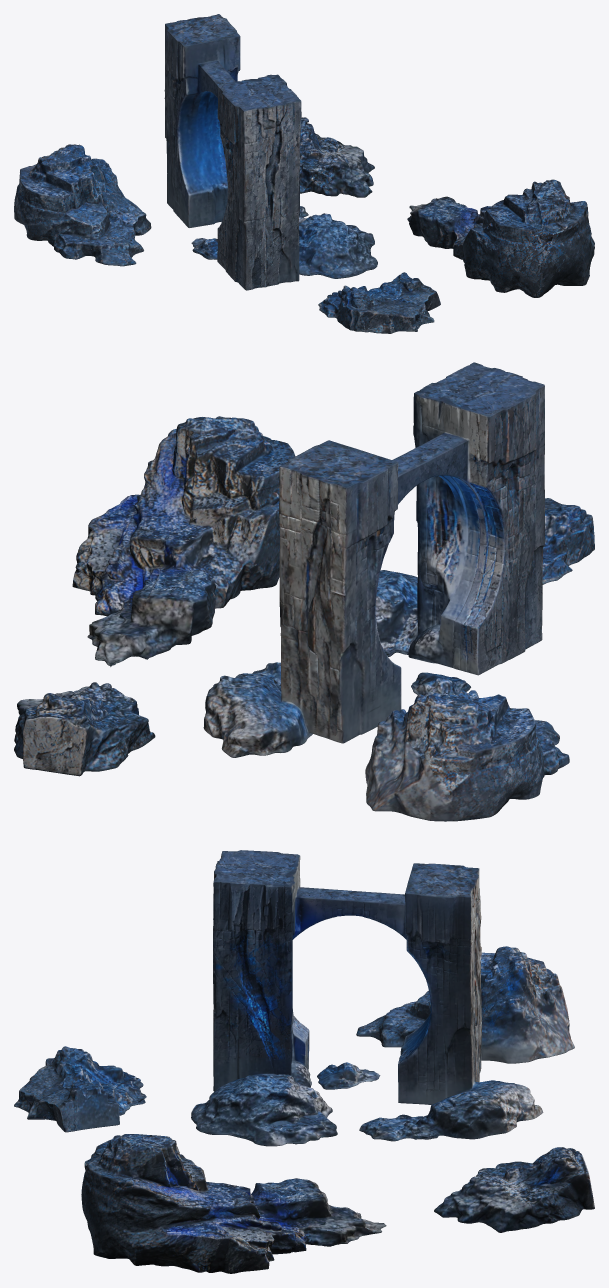
File: mcanzee-env-high.glb
3 renders of one model, top to bottom at view 1: azimuth 30°, elevation 25°; view 2: azimuth 150°, elevation 25°; view 3: azimuth 270°, elevation 25°, orthographic. The views are drawn at different scales.
Visible parts, largest first — view 1: tripo_node_a993ce54-3bb5-4077-bf19-d4c9f26e7f1f; view 2: tripo_node_a993ce54-3bb5-4077-bf19-d4c9f26e7f1f; view 3: tripo_node_a993ce54-3bb5-4077-bf19-d4c9f26e7f1f.
Part boxes in pixels (bbox=[...]): tripo_node_a993ce54-3bb5-4077-bf19-d4c9f26e7f1f: bbox=[14, 14, 594, 333]; tripo_node_a993ce54-3bb5-4077-bf19-d4c9f26e7f1f: bbox=[14, 362, 594, 821]; tripo_node_a993ce54-3bb5-4077-bf19-d4c9f26e7f1f: bbox=[14, 850, 594, 1273].
Bounding box in the file's own units: 0.978 × 0.4495 × 0.9796.
Materials: 1 (1 with a texture image).
